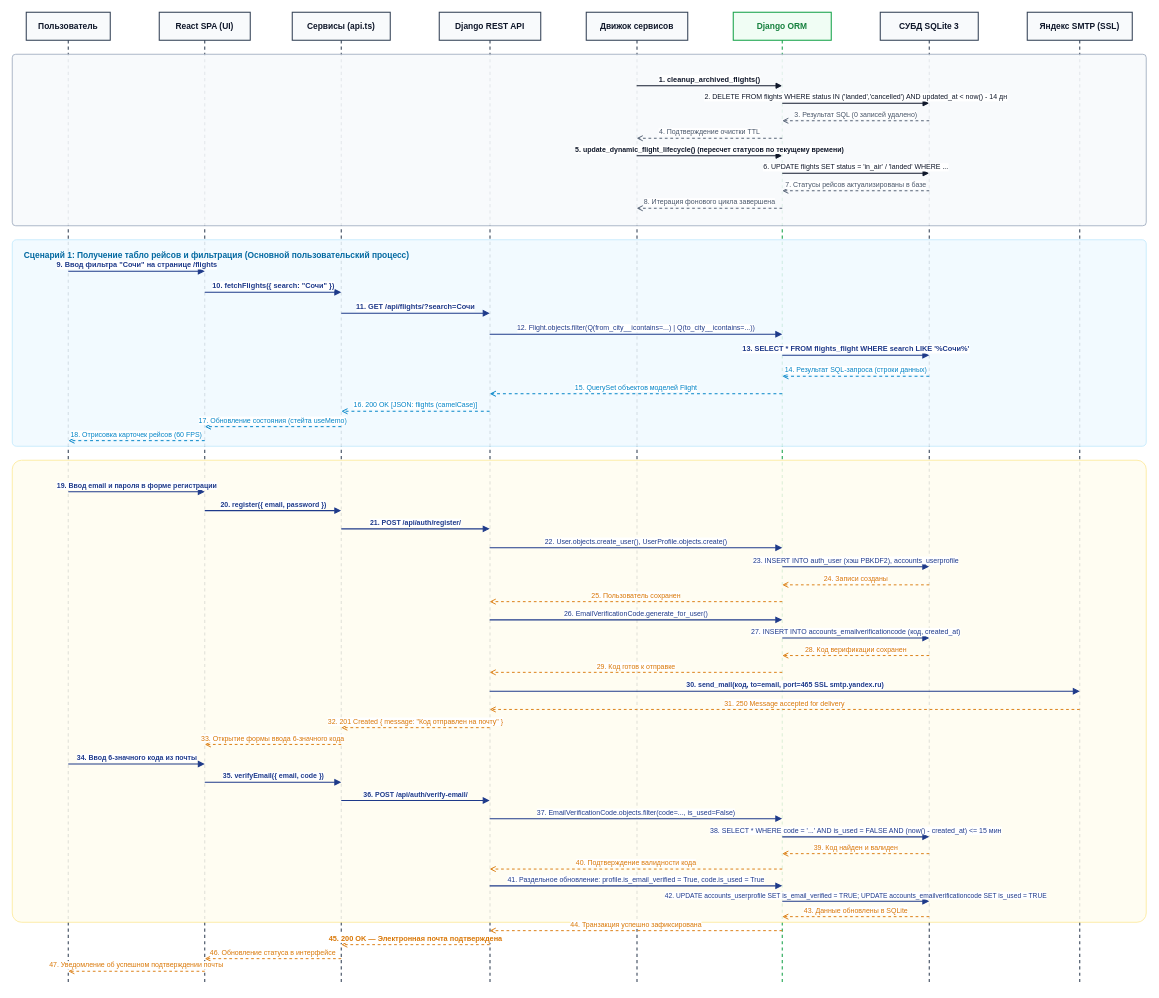
Image size: 1159x998. Some labels were removed from this diagram. The centre of each missing label's shape, as x and y in pixels:
loop [Фоновый процесс: Демон жизненного цикла 24/7 и автоочистка TTL]: the point at 578,139
Сценарий 2: Регистрация и подтверждение email через Яндекс SMTP (SSL): the point at 578,690
